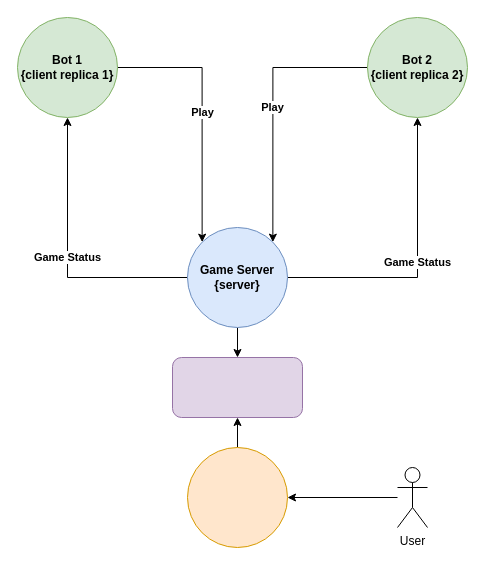
The diagram is 485 pixels wide and 566 high, and some of its shapes have lost their labels. The shapes that lost their labels are listed below. From the top down, each one's centre as x and y in pixels, then its label:
At point (237, 387): "Tic-Tac-Toe package".
At point (237, 497): "Standalone CLI {cli}".
